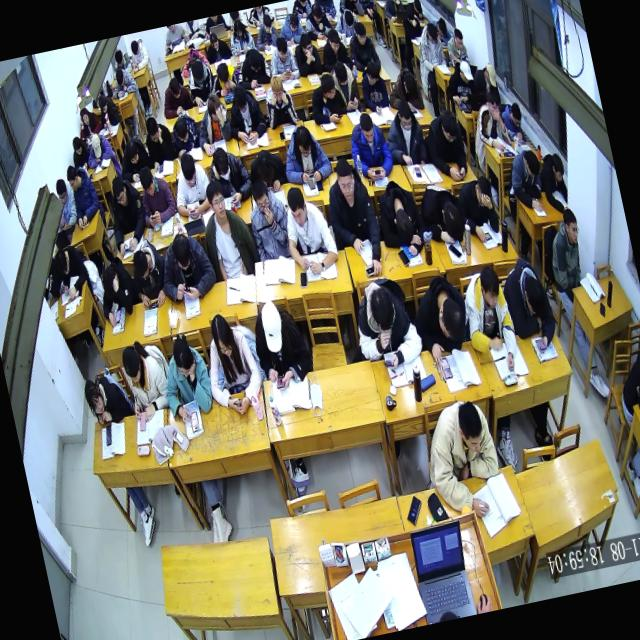bow: (404, 267, 476, 369), (496, 251, 562, 358), (152, 226, 220, 309), (370, 174, 428, 262), (414, 178, 469, 251), (123, 233, 174, 309), (202, 140, 256, 208), (80, 367, 134, 430), (504, 146, 548, 218), (302, 68, 350, 126), (534, 151, 574, 216), (244, 144, 290, 197), (382, 64, 426, 118), (114, 133, 156, 185), (231, 44, 273, 92), (165, 110, 204, 160), (156, 70, 193, 120), (205, 58, 242, 99), (82, 129, 117, 169), (106, 62, 139, 98), (332, 5, 362, 41), (398, 6, 424, 41), (429, 12, 453, 48), (108, 48, 134, 80), (405, 0, 424, 22)
down: (366, 282, 400, 338), (256, 297, 288, 354), (434, 295, 468, 347), (208, 312, 238, 361), (168, 334, 198, 381), (475, 264, 504, 312), (520, 272, 550, 318), (284, 182, 311, 230), (118, 342, 145, 386), (168, 232, 194, 274), (252, 147, 278, 186), (437, 106, 462, 144), (177, 150, 200, 190), (472, 172, 496, 210), (249, 178, 273, 216), (210, 146, 234, 183), (129, 245, 153, 282), (98, 261, 122, 298), (292, 120, 314, 158), (356, 108, 378, 146), (109, 175, 130, 210), (394, 98, 414, 134), (522, 146, 542, 182), (136, 164, 156, 198), (266, 71, 286, 104), (548, 150, 567, 184), (230, 82, 250, 114), (143, 114, 163, 146), (53, 247, 73, 278), (400, 69, 420, 100), (172, 116, 192, 146), (272, 32, 290, 64), (332, 58, 350, 88), (124, 137, 142, 166), (189, 58, 207, 86), (246, 46, 264, 74), (298, 32, 316, 60), (457, 58, 475, 86), (352, 20, 370, 47), (87, 130, 103, 160), (508, 100, 524, 130), (326, 27, 343, 55), (54, 177, 70, 206), (214, 61, 232, 86), (482, 61, 498, 88), (308, 2, 324, 26), (424, 20, 440, 44), (451, 27, 466, 52), (70, 135, 84, 157), (286, 10, 300, 32), (342, 6, 356, 28), (434, 16, 448, 38), (113, 68, 127, 89), (260, 14, 274, 35), (96, 92, 109, 114), (232, 16, 244, 38), (208, 29, 220, 50)
lookup: (452, 394, 488, 458), (332, 156, 360, 202), (202, 177, 228, 220), (82, 375, 106, 417), (560, 205, 582, 248), (484, 91, 503, 123), (78, 105, 92, 126)
sit: (414, 392, 510, 528), (318, 151, 390, 284), (344, 270, 428, 378), (454, 262, 524, 381), (194, 308, 268, 420), (192, 174, 262, 286), (246, 291, 316, 392), (274, 178, 340, 278), (152, 327, 218, 427), (118, 334, 175, 424), (242, 173, 296, 265), (539, 204, 591, 294), (101, 172, 153, 258), (420, 103, 472, 185), (343, 108, 396, 186), (276, 120, 335, 190), (165, 148, 218, 224), (92, 252, 143, 329), (378, 96, 429, 172), (454, 170, 504, 246), (220, 76, 270, 146), (189, 90, 237, 160), (132, 160, 180, 230), (470, 88, 513, 158), (63, 160, 104, 228), (51, 239, 92, 301), (138, 112, 178, 174), (260, 72, 300, 132), (342, 16, 382, 74), (354, 54, 392, 115), (611, 347, 640, 421), (326, 57, 362, 113), (182, 53, 218, 109), (439, 57, 479, 107), (264, 34, 300, 86), (316, 25, 353, 74), (414, 20, 448, 73), (288, 30, 324, 80), (50, 173, 81, 228), (299, 0, 333, 43), (498, 99, 528, 146), (224, 16, 257, 58), (472, 60, 502, 106), (250, 12, 282, 54), (443, 26, 471, 70), (202, 29, 234, 66), (276, 8, 306, 46), (67, 132, 95, 172), (94, 89, 122, 128), (74, 100, 102, 138), (125, 34, 151, 74), (380, 0, 404, 21)
